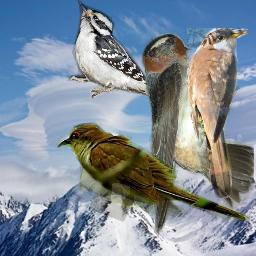Cuckoo: (57, 122, 250, 222), (187, 28, 248, 198)
Swallow: (141, 33, 254, 236)
Woodpecker: (67, 0, 166, 99)
